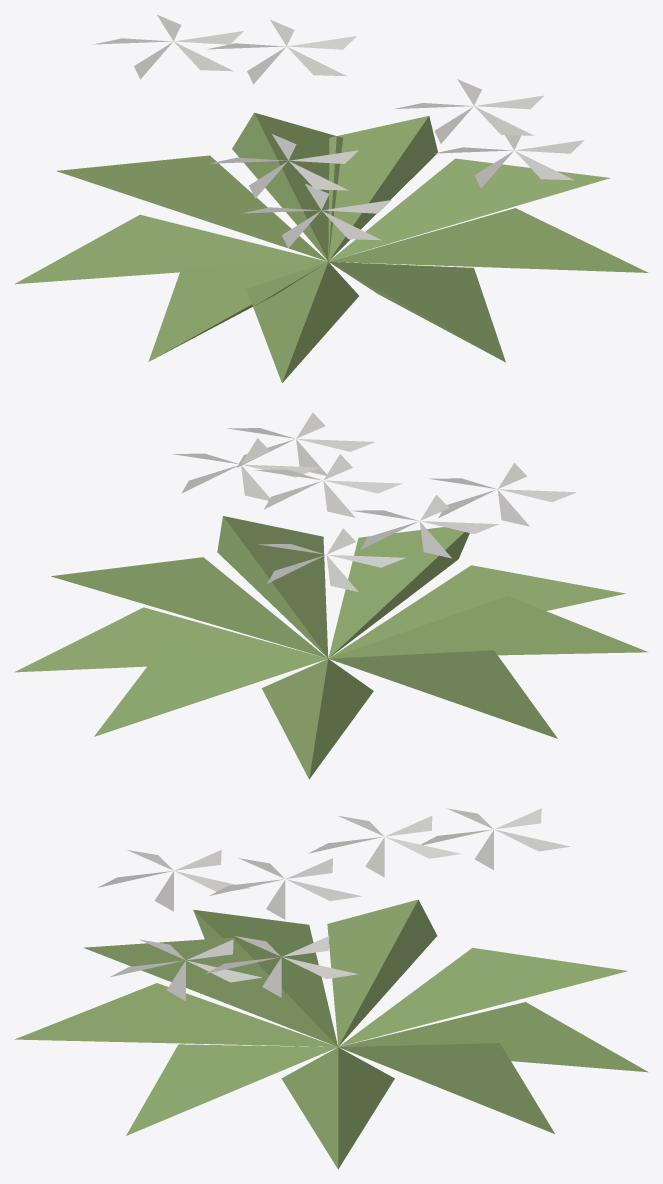
Rendered from flowers.glb.
3 renders of one model, top to bottom at view 1: azimuth 30°, elevation 25°; view 2: azimuth 150°, elevation 25°; view 3: azimuth 270°, elevation 25°, orthographic.
Parts seen in each view (by area): view 1: flowers; view 2: flowers; view 3: flowers.
Boxes of the visible parts, box(x1,y1,x2,y2) form: flowers: box(14, 14, 648, 382); flowers: box(14, 412, 648, 779); flowers: box(14, 808, 648, 1169).
Bounding box in the file's own units: 0.7876 × 0.274 × 0.7822.
